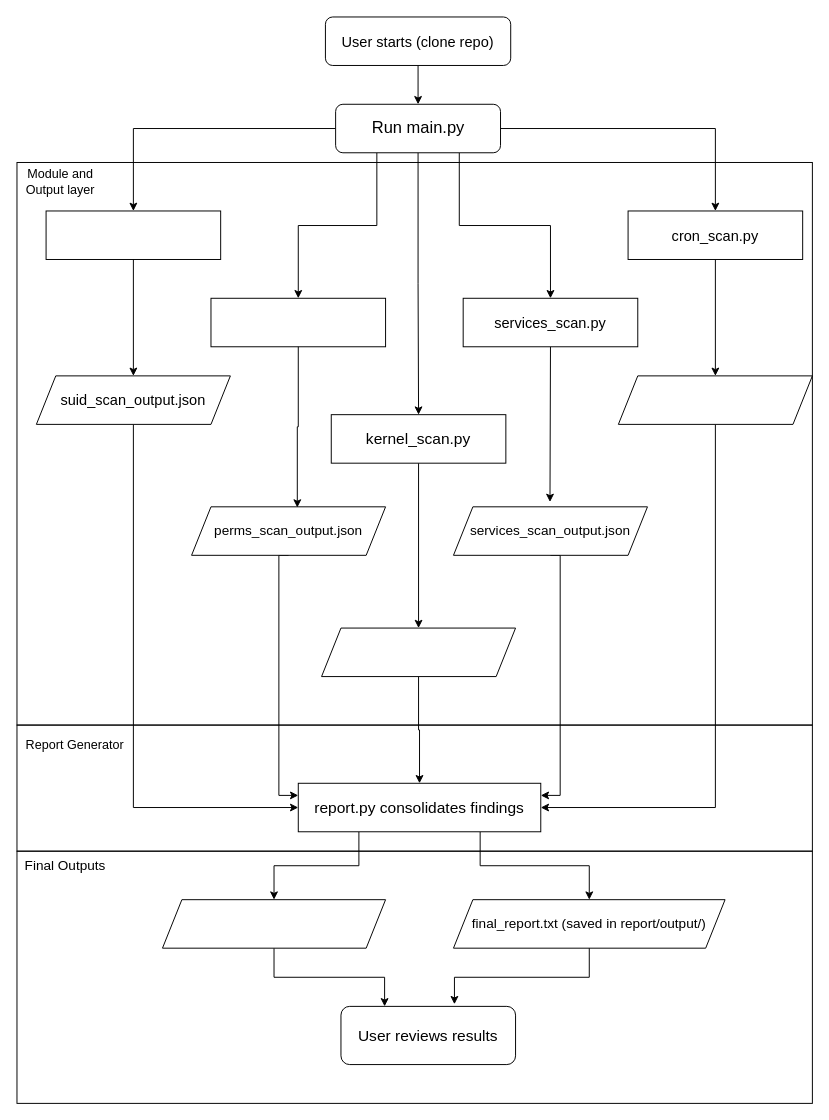
This 829x1120 diagram has some shape labels left out. The shapes that lost their labels are listed below. From the top down, each one's box as (x1, y1, x2, y2) in pixels, then its label:
(45, 210, 221, 259): suid_scan.py
(210, 297, 386, 347): perms_scan.py
(617, 375, 812, 424): cron_scan_output.json
(321, 627, 516, 677): kernel_scan_output.json
(162, 899, 386, 948): Console Output (color-coded summary)
